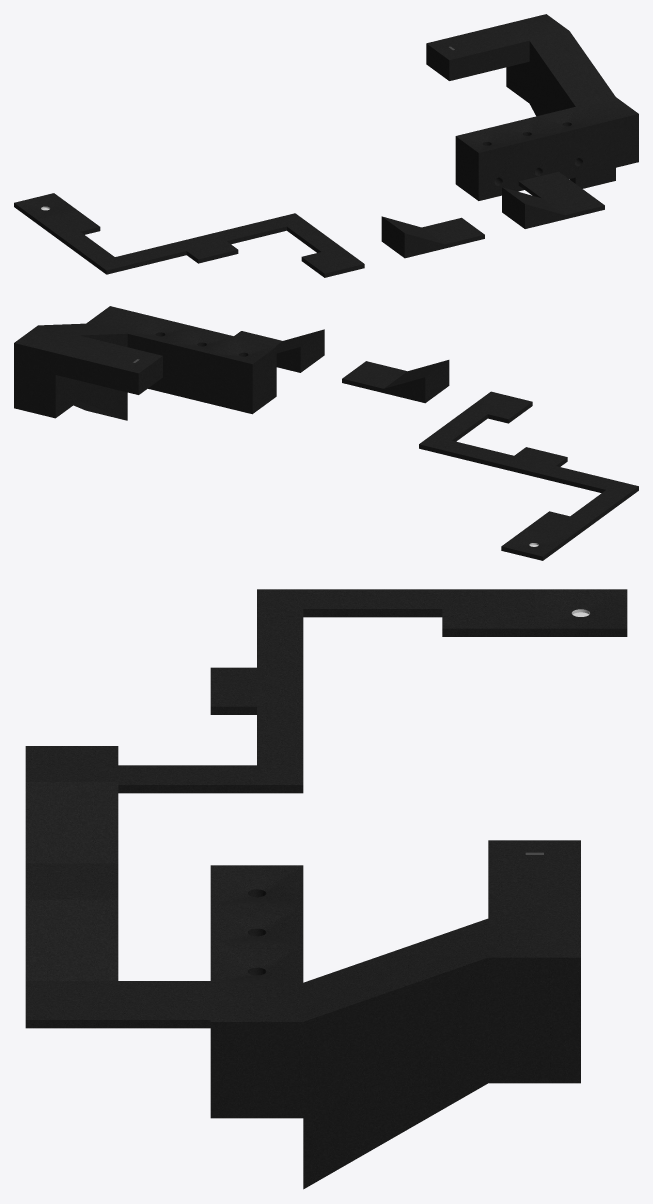
File: Secret Hole Base.glb
The picture shows the model from 3 angles, top to bottom: view 1: azimuth 30°, elevation 25°; view 2: azimuth 150°, elevation 25°; view 3: azimuth 270°, elevation 25°; orthographic projection. The views are drawn at different scales.
Parts seen in each view (by area): view 1: Secret Hole Base; view 2: Secret Hole Base; view 3: Secret Hole Base.
Part boxes in pixels (x1,y1,x2,y2): Secret Hole Base: [14, 14, 638, 277]; Secret Hole Base: [14, 306, 638, 560]; Secret Hole Base: [25, 589, 627, 1189].
Size of what is drawn, in the model's own units: 26 by 5.53 by 13.
3 materials, 1 textured.
